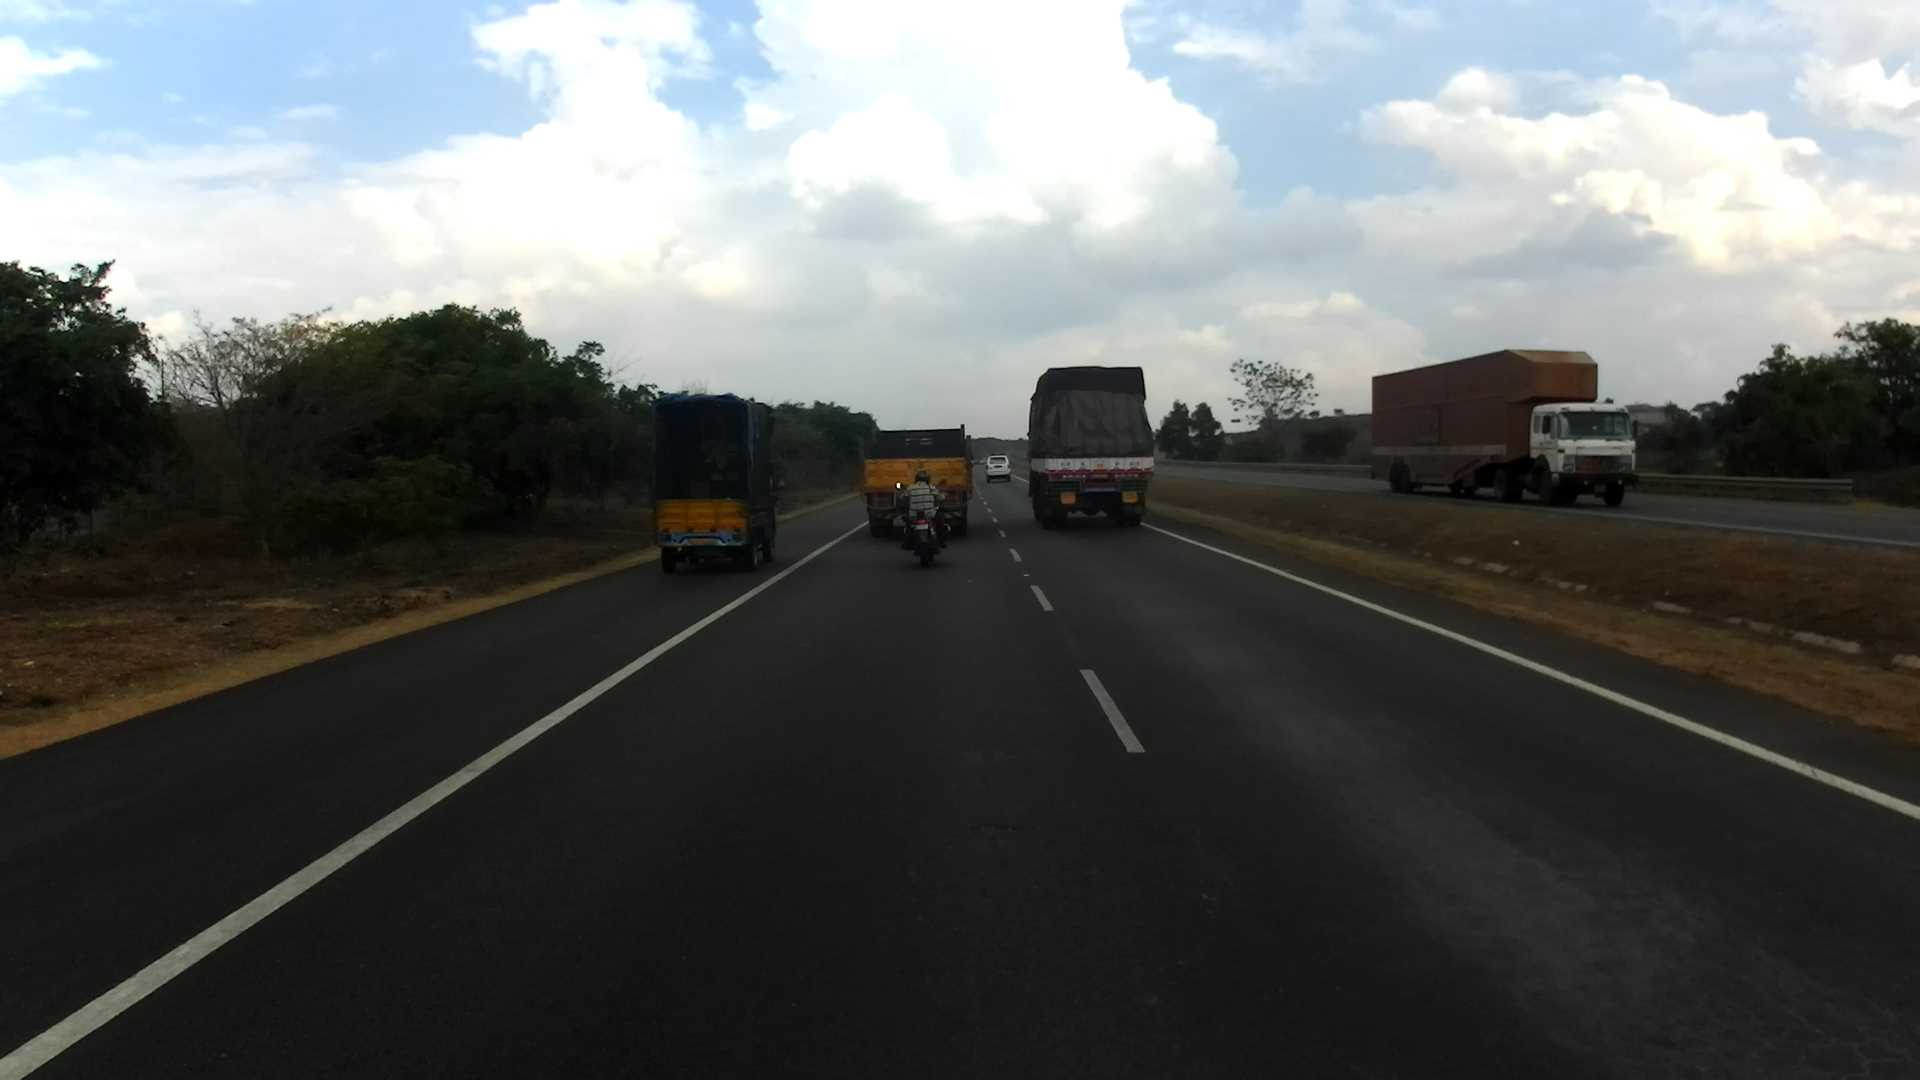bike: (900, 464, 956, 566)
car: (983, 451, 1019, 485)
truck: (1379, 347, 1669, 505), (646, 392, 789, 579), (1024, 365, 1157, 533), (852, 417, 977, 542)
